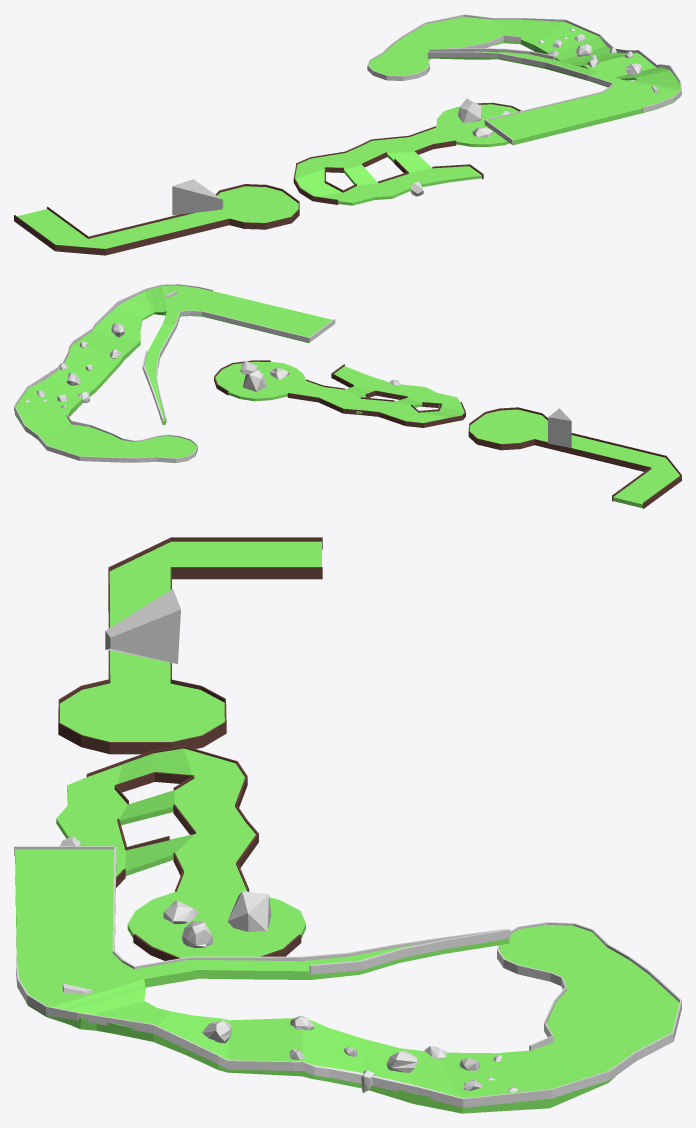
Rendered from Course789.fbx.
3 renders of one model, top to bottom at view 1: azimuth 30°, elevation 25°; view 2: azimuth 150°, elevation 25°; view 3: azimuth 270°, elevation 25°, orthographic. The views are drawn at different scales.
Visible parts, largest first — view 1: Cube.056, Cube.054, Cube.059, Cube.057, Cube.060, Cube.055, Cube.061, Icosphere.066; view 2: Cube.056, Cube.054, Cube.059, Cube.057, Cube.060, Cube.055, Cube.061, Icosphere.066; view 3: Cube.056, Cube.054, Cube.059, Cube.057, Cube.060, Cube.055, Cube.061, Icosphere.066.
Boxes of the visible parts, x1,y1,x2,y2 form: Cube.056: [368, 17, 680, 145]; Cube.054: [295, 104, 518, 205]; Cube.059: [17, 186, 298, 248]; Cube.057: [367, 14, 681, 144]; Cube.060: [14, 184, 299, 255]; Cube.055: [293, 102, 521, 204]; Cube.061: [172, 179, 223, 215]; Icosphere.066: [458, 98, 481, 122]; Cube.056: [14, 285, 332, 458]; Cube.054: [215, 361, 464, 422]; Cube.059: [469, 409, 679, 508]; Cube.057: [14, 284, 335, 463]; Cube.060: [468, 407, 681, 508]; Cube.055: [214, 360, 465, 427]; Cube.061: [548, 408, 571, 447]; Icosphere.066: [242, 369, 266, 391]; Cube.056: [15, 849, 679, 1113]; Cube.054: [56, 748, 305, 957]; Cube.059: [60, 541, 321, 741]; Cube.057: [14, 846, 681, 1107]; Cube.060: [58, 537, 322, 754]; Cube.055: [86, 746, 301, 960]; Cube.061: [105, 589, 180, 663]; Icosphere.066: [227, 891, 271, 931].
Size of the model in its own units: 5563 by 422 by 2793.
